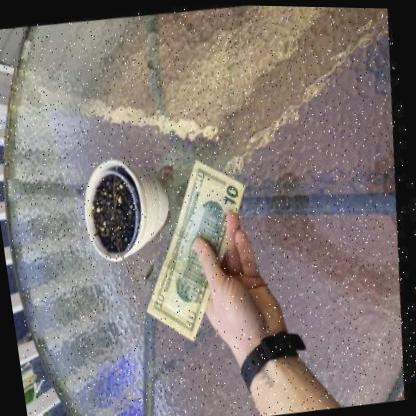dollar_back: (152, 155, 249, 337)
